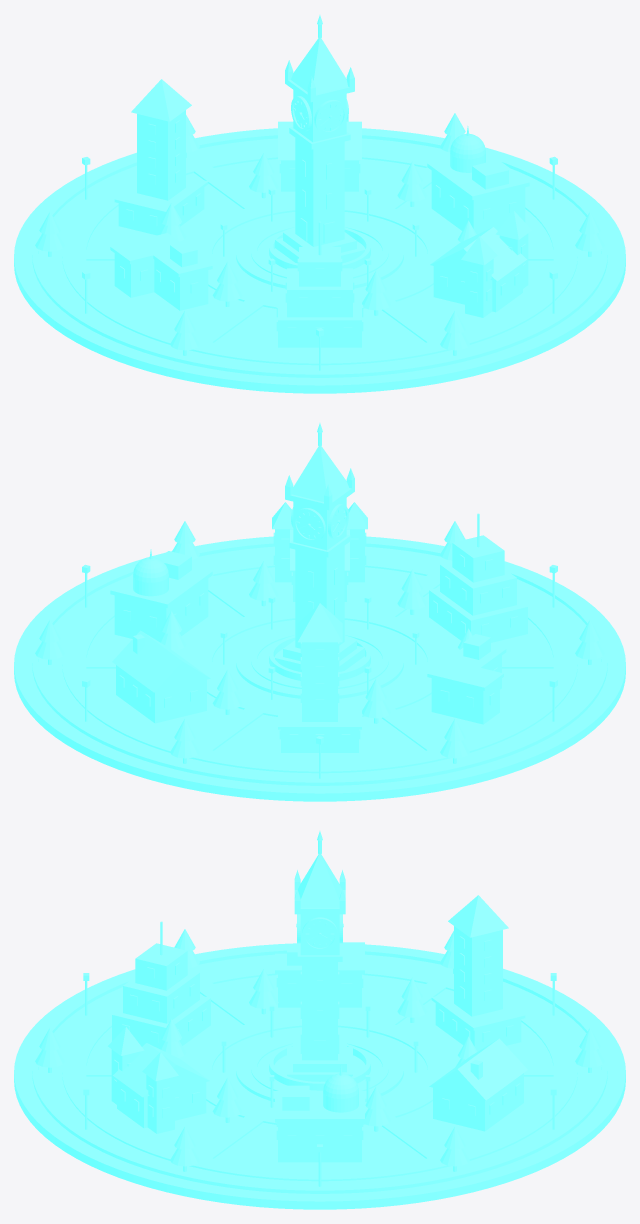
The model's file is MiniTown.fbx.
The picture shows the model from 3 angles, top to bottom: view 1: azimuth 30°, elevation 25°; view 2: azimuth 150°, elevation 25°; view 3: azimuth 270°, elevation 25°; orthographic projection.
Visible parts, largest first — view 1: Ground, Roads, ClockTower, Bldg_Tower, Trees, Bldg_Stepped, Bldg_Church, Bldg_Dome, Bldg_L, Bldg_Gable, Lamps; view 2: Ground, Roads, ClockTower, Bldg_Tower, Trees, Bldg_Stepped, Bldg_Dome, Bldg_Gable, Bldg_L, Bldg_Church, Lamps; view 3: Ground, Roads, ClockTower, Bldg_Tower, Trees, Bldg_Dome, Bldg_Stepped, Bldg_Church, Bldg_Gable, Bldg_L, Lamps.
Part boxes in pixels (left/top/right/bottom): Ground: left=14, top=128, right=625, bottom=393; Roads: left=32, top=132, right=607, bottom=377; ClockTower: left=236, top=15, right=403, bottom=288; Bldg_Tower: left=114, top=79, right=208, bottom=235; Trees: left=35, top=113, right=604, bottom=355; Bldg_Stepped: left=276, top=221, right=363, bottom=347; Bldg_Church: left=430, top=211, right=531, bottom=317; Bldg_Dome: left=427, top=126, right=529, bottom=234; Bldg_L: left=110, top=233, right=212, bottom=310; Bldg_Gable: left=278, top=116, right=361, bottom=191; Lamps: left=82, top=156, right=557, bottom=370; Ground: left=14, top=536, right=625, bottom=801; Roads: left=32, top=541, right=607, bottom=785; ClockTower: left=236, top=423, right=403, bottom=698; Bldg_Tower: left=278, top=603, right=361, bottom=752; Trees: left=35, top=521, right=604, bottom=763; Bldg_Stepped: left=429, top=513, right=527, bottom=642; Bldg_Dome: left=110, top=549, right=212, bottom=641; Bldg_Gable: left=112, top=630, right=210, bottom=723; Bldg_L: left=427, top=634, right=506, bottom=724; Bldg_Church: left=272, top=502, right=367, bottom=601; Lamps: left=82, top=564, right=557, bottom=778; Ground: left=14, top=943, right=625, bottom=1209; Roads: left=32, top=948, right=607, bottom=1193; ClockTower: left=236, top=831, right=403, bottom=1101; Bldg_Tower: left=431, top=895, right=525, bottom=1051; Trees: left=35, top=929, right=604, bottom=1171; Bldg_Dome: left=275, top=1065, right=364, bottom=1162; Bldg_Stepped: left=112, top=921, right=210, bottom=1048; Bldg_Church: left=108, top=1027, right=209, bottom=1133; Bldg_Gable: left=429, top=1038, right=527, bottom=1131; Bldg_L: left=275, top=942, right=364, bottom=1007; Lamps: left=83, top=973, right=556, bottom=1186.
Bounding box in the file's own units: 2040 × 920 × 2040.
